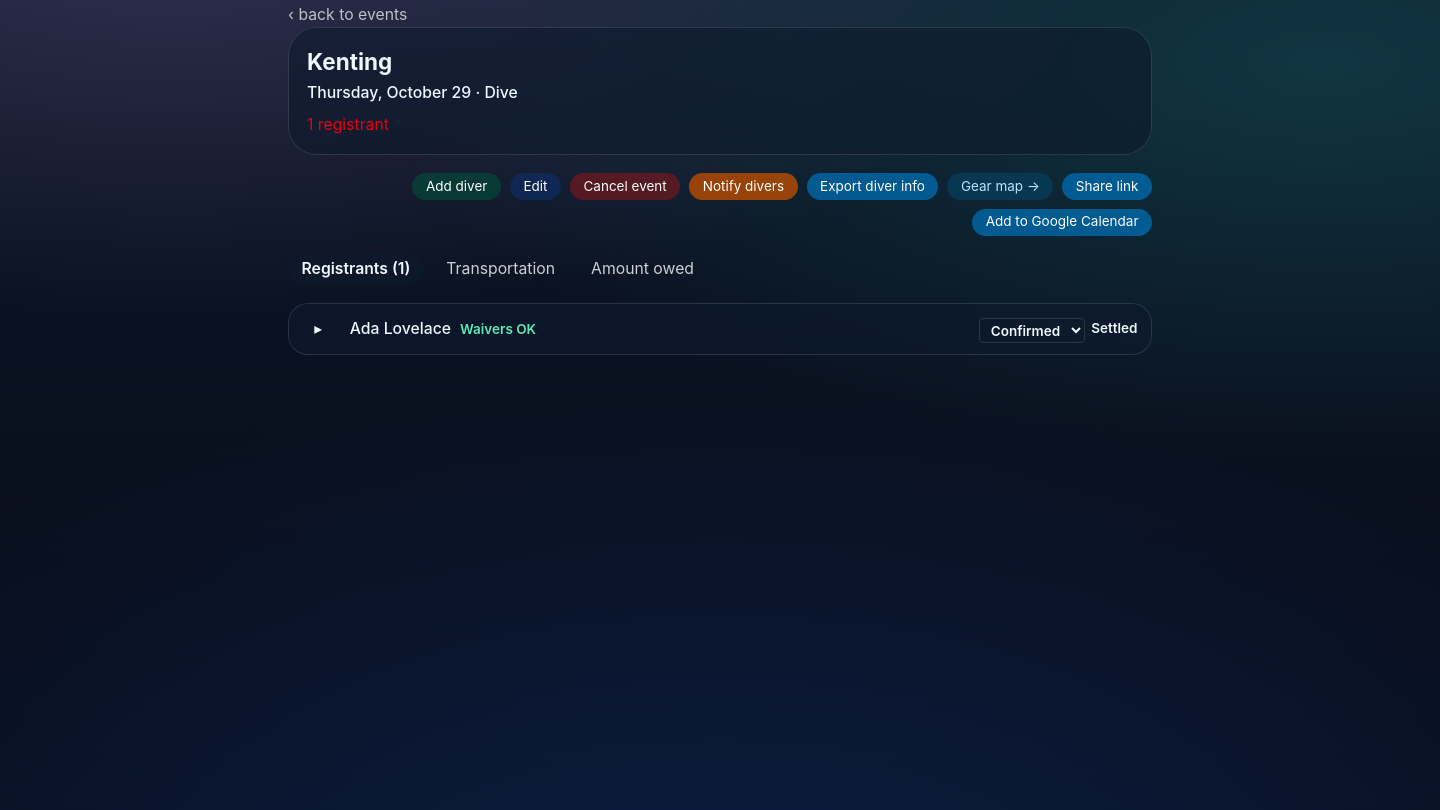
Test case: AdminEventDetailPage › resolves valid add-on names even when a booking carries a malformed add-on id
Click the button named "Ada Lovelace" at coordinates (318, 329), box 294,304 -> 343,354
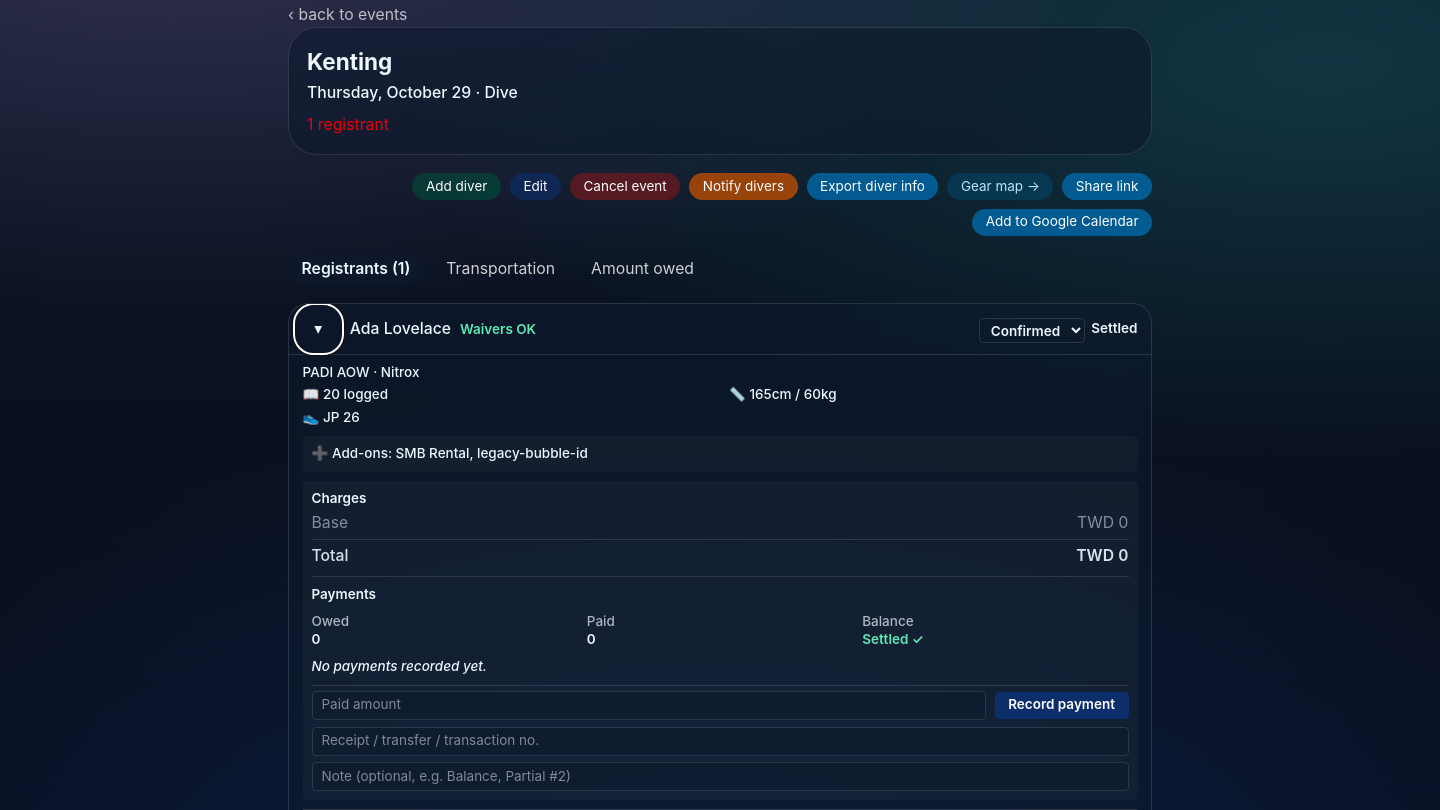
Now the text "➕ Add-ons: SMB Rental, legacy-bubble-id" is shown, box 312,445 -> 588,461
